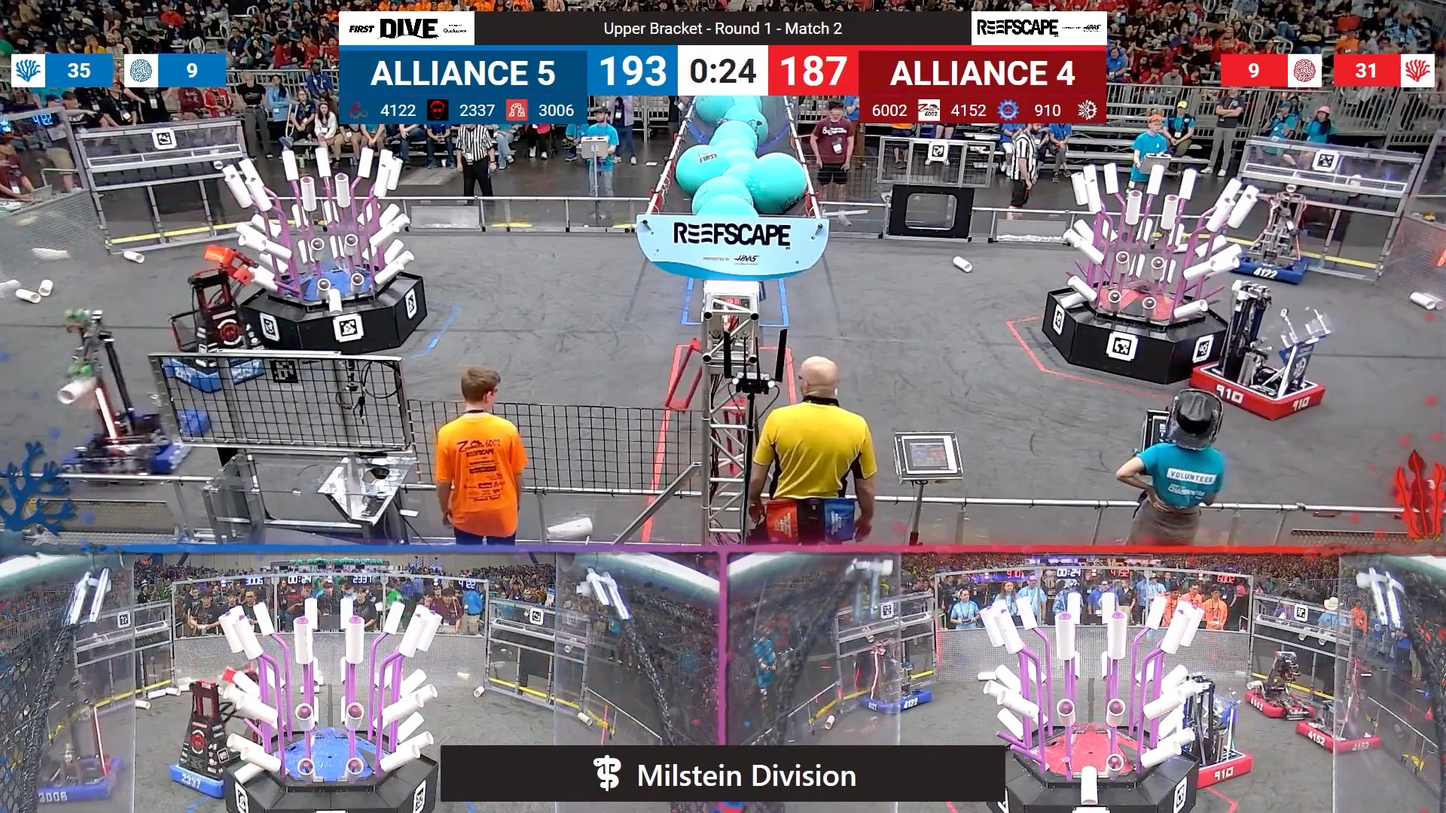bumpers: (56, 417, 200, 487), (1185, 363, 1332, 424), (153, 346, 276, 394), (35, 753, 125, 808), (160, 753, 257, 799), (1172, 743, 1260, 790), (1288, 721, 1385, 757), (1225, 248, 1316, 284), (1238, 687, 1321, 722), (854, 687, 937, 718)
